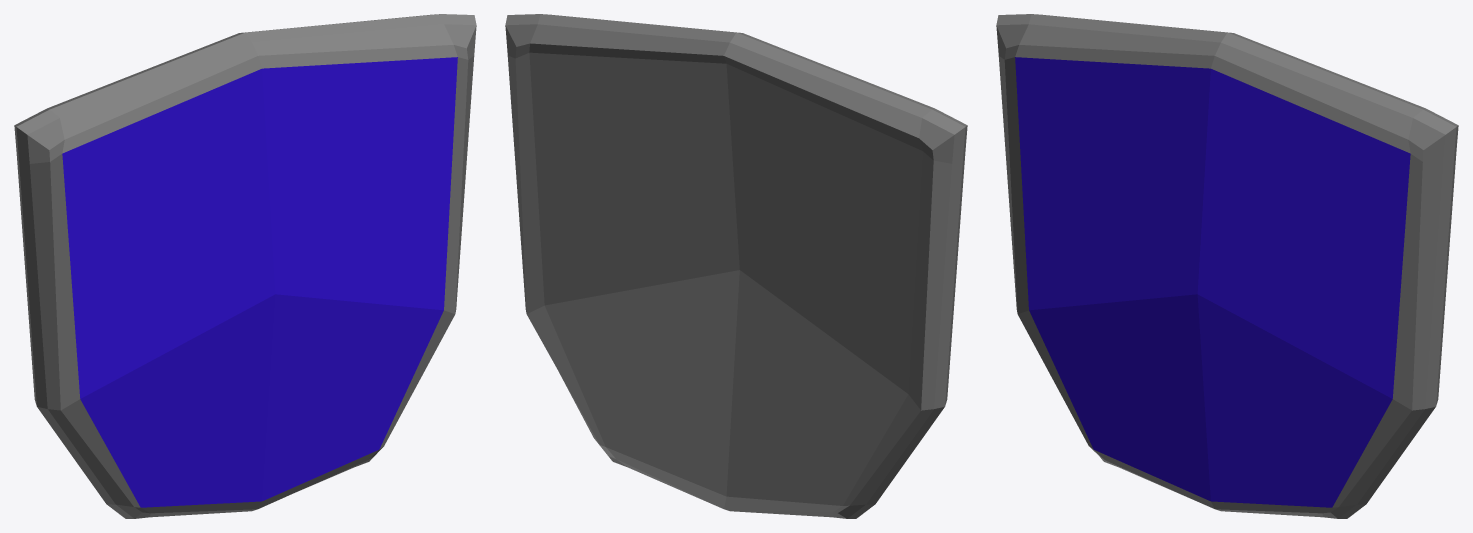
The model's file is ArmorFull.fbx.
3 views of the same model, side by side, from view 1: azimuth 30°, elevation 25°; view 2: azimuth 150°, elevation 25°; view 3: azimuth 330°, elevation 25° (orthographic).
Visible parts, largest first — view 1: Armor.Full; view 2: Armor.Full; view 3: Armor.Full.
Boxes of the visible parts, bbox=[...] form: Armor.Full: bbox=[14, 14, 476, 518]; Armor.Full: bbox=[505, 14, 967, 518]; Armor.Full: bbox=[996, 14, 1458, 518].
Bounding box in the file's own units: 39.84 × 39.76 × 6.4.
